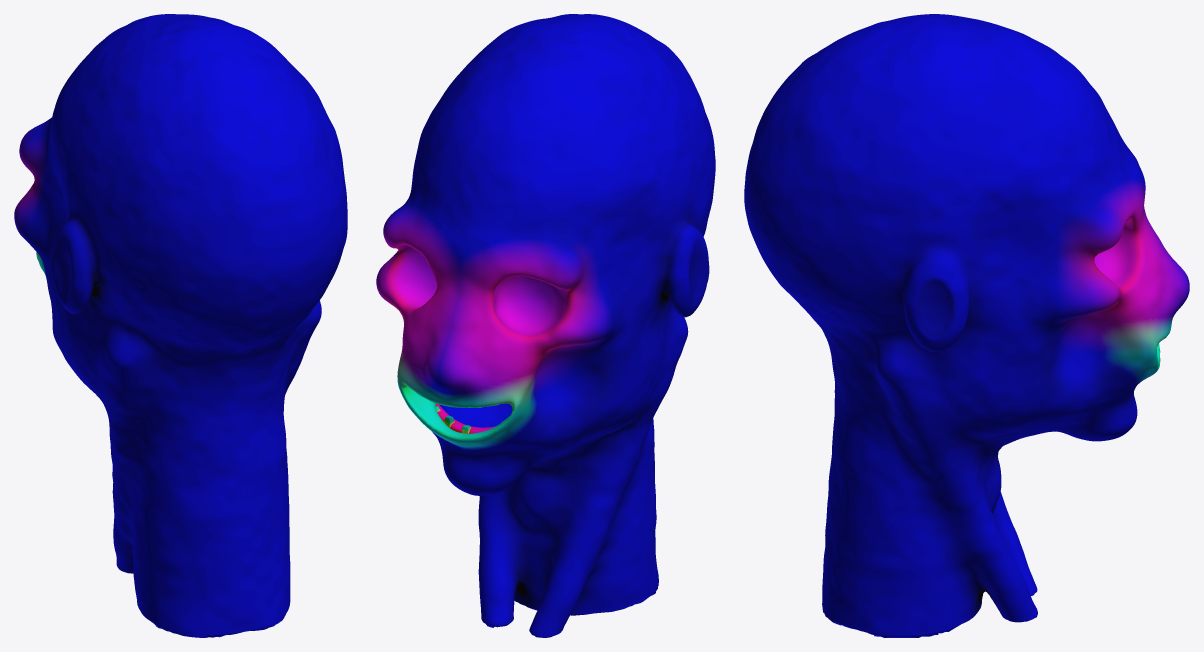
Rendered from cabeca.glb.
3 renders of one model, left to right at view 1: azimuth 30°, elevation 25°; view 2: azimuth 150°, elevation 25°; view 3: azimuth 270°, elevation 25°, orthographic. The views are drawn at different scales.
Parts seen in each view (by area): view 1: Pele; view 2: Pele, Boca; view 3: Pele.
Boxes of the visible parts, left/top/right/bottom form: Pele: left=14, top=14, right=347, bottom=637; Pele: left=376, top=14, right=715, bottom=637; Boca: left=435, top=403, right=502, bottom=433; Pele: left=744, top=14, right=1189, bottom=637.
Size of the model in its own units: 0.1624 by 0.3218 by 0.2232.
